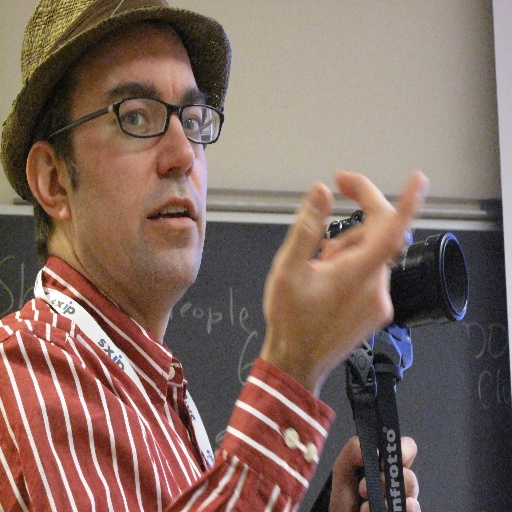hand: (247, 176, 450, 393), (327, 433, 422, 511)
